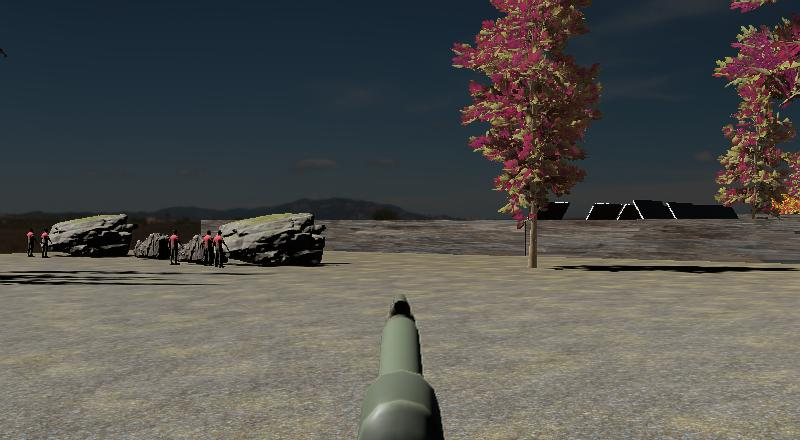Human: (212, 229, 229, 269), (199, 229, 214, 268), (168, 228, 183, 266), (40, 228, 53, 258), (25, 227, 37, 257)
